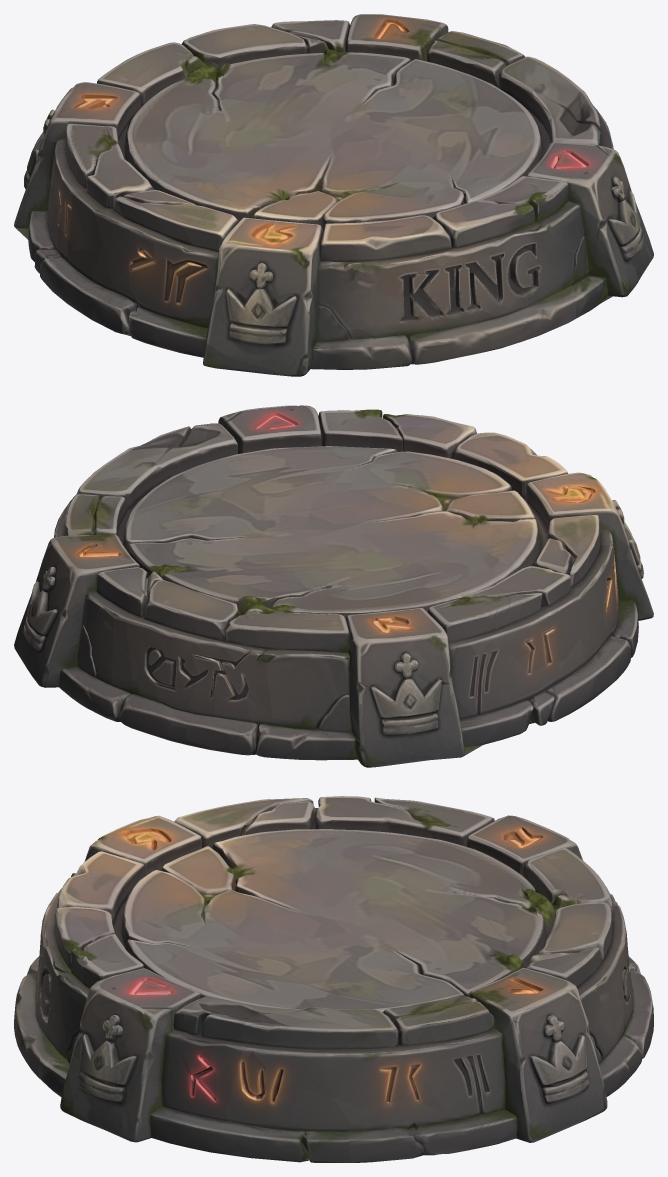
The model's file is king_foundation.glb.
3 renders of one model, top to bottom at view 1: azimuth 30°, elevation 25°; view 2: azimuth 150°, elevation 25°; view 3: azimuth 270°, elevation 25°, orthographic. The views are drawn at different scales.
Parts seen in each view (by area): view 1: Mesh_0; view 2: Mesh_0; view 3: Mesh_0.
Boxes of the visible parts, x1,y1,x2,y2 form: Mesh_0: (14,14,653,376); Mesh_0: (14,405,653,767); Mesh_0: (14,796,653,1162).
Bounding box in the file's own units: 1.9 × 0.396 × 1.9.
Materials: 1 (1 with a texture image).
